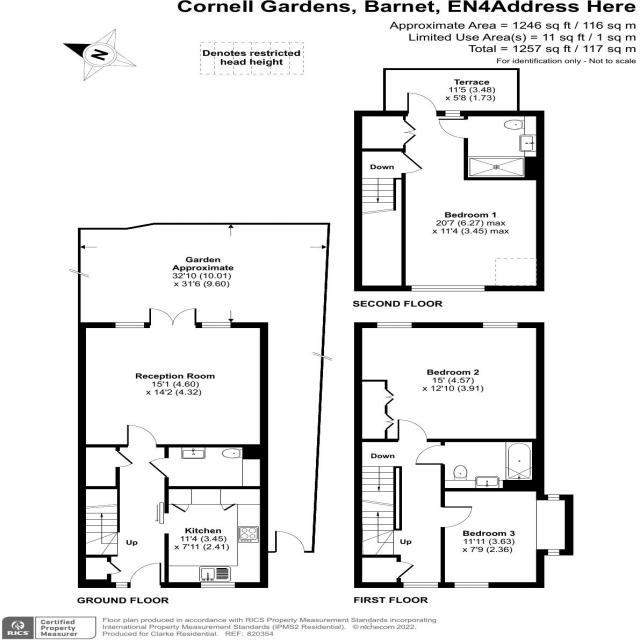DOOR: (129, 562, 163, 588), (440, 506, 474, 529), (407, 92, 438, 117), (126, 424, 158, 448), (397, 419, 429, 443), (274, 530, 306, 553), (437, 118, 469, 140), (415, 444, 446, 465), (400, 151, 426, 175), (147, 457, 170, 478), (114, 450, 135, 468), (395, 561, 416, 579), (106, 561, 123, 575)
DOUBLE DOOR: (147, 306, 198, 328)
ROOM: (77, 307, 270, 460), (401, 89, 546, 292), (351, 321, 546, 442), (439, 479, 574, 589), (158, 486, 269, 588)
WINDOW: (410, 285, 486, 292), (453, 581, 490, 589), (482, 321, 519, 329), (200, 581, 236, 589), (376, 322, 413, 329), (403, 582, 439, 589), (114, 321, 145, 329), (201, 322, 232, 329), (114, 581, 129, 589), (546, 548, 561, 556), (445, 110, 461, 117), (547, 494, 560, 501)
